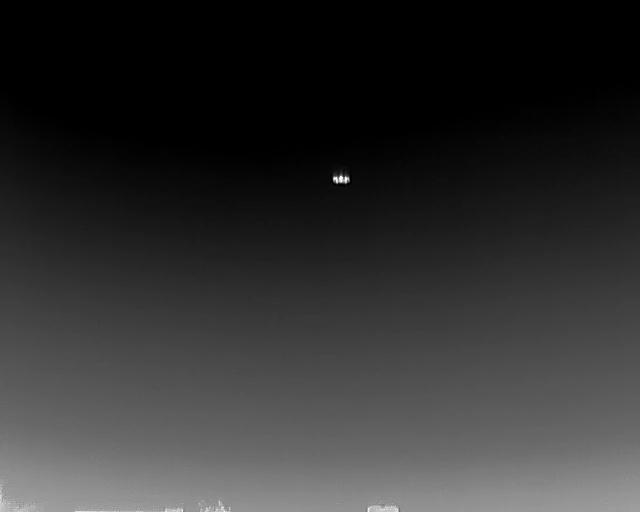fpv-drone: (332, 169, 350, 185)
